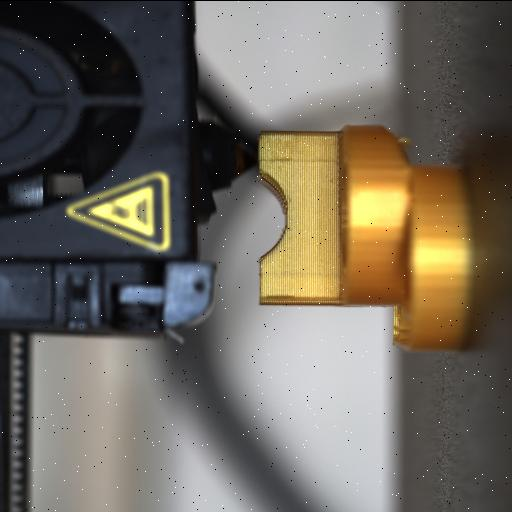layer_shift: (382, 126, 424, 354)
